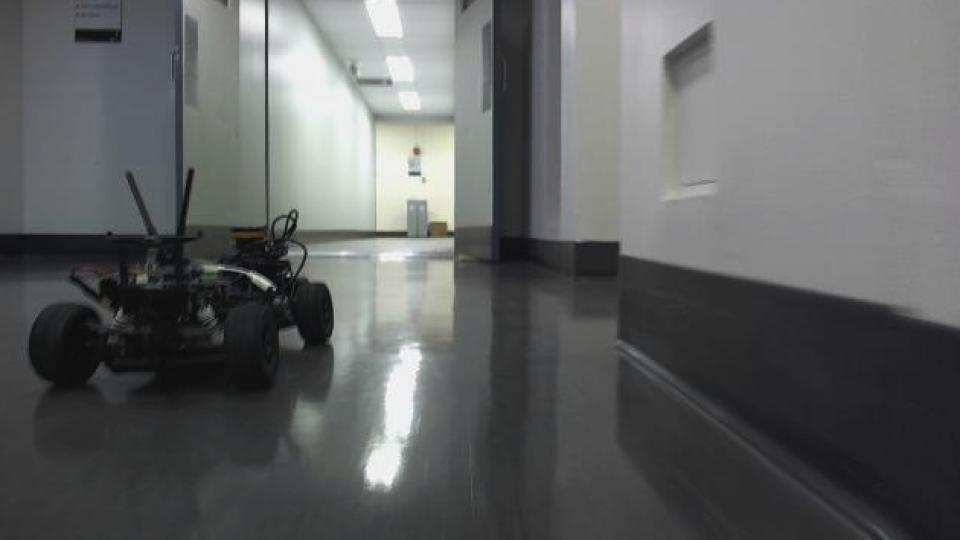car: (24, 165, 337, 394)
